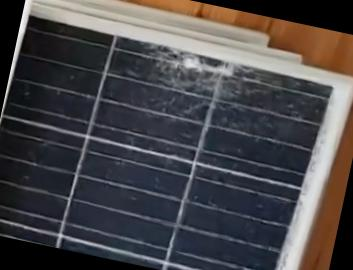Crack: (132, 42, 256, 122)
